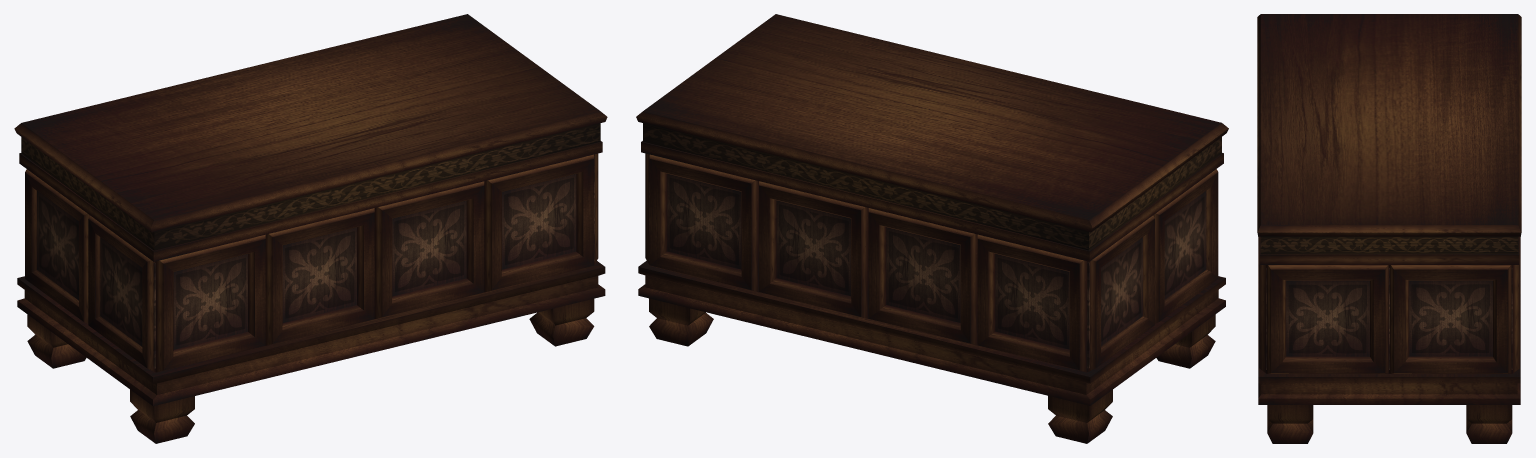
File: chaji.fbx
The picture shows the model from 3 angles, left to right: view 1: azimuth 30°, elevation 25°; view 2: azimuth 150°, elevation 25°; view 3: azimuth 270°, elevation 25°; orthographic projection. The views are drawn at different scales.
Parts seen in each view (by area): view 1: obj1; view 2: obj1; view 3: obj1.
Part boxes in pixels (x1=…): obj1: x1=14, y1=14, x2=607, y2=443; obj1: x1=636, y1=14, x2=1228, y2=443; obj1: x1=1257, y1=14, x2=1521, y2=443.
Bounding box in the file's own units: 203 × 97.9 × 105.
4 materials, 4 textured.
